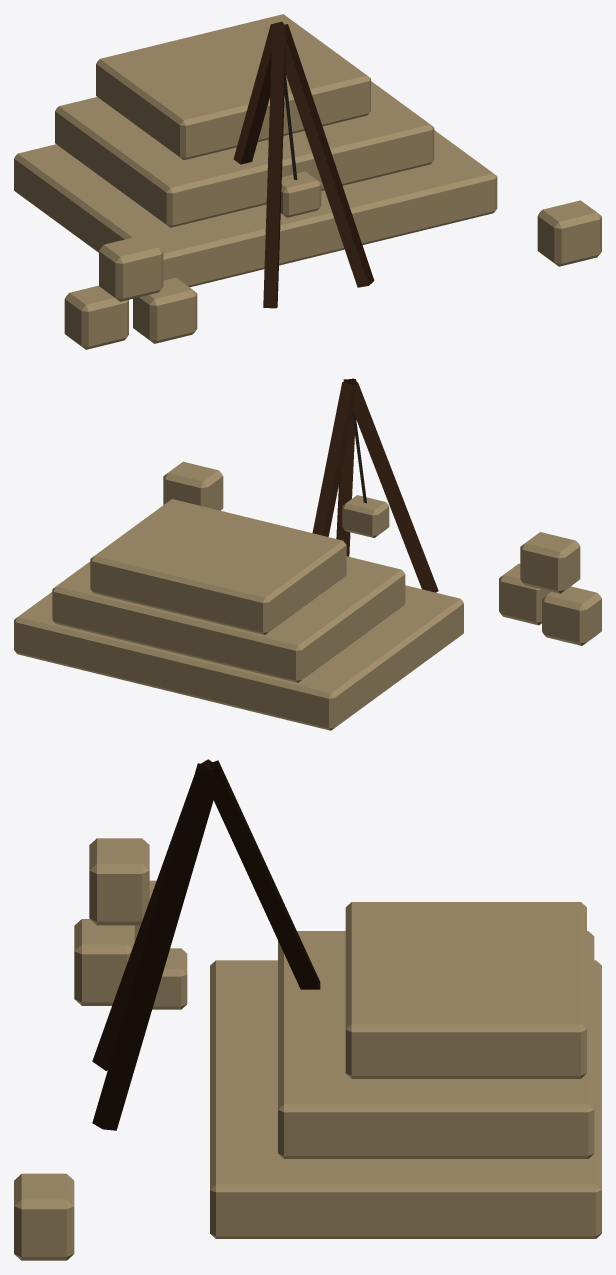
Rendered from quarry.obj.
The picture shows the model from 3 angles, top to bottom: view 1: azimuth 30°, elevation 25°; view 2: azimuth 150°, elevation 25°; view 3: azimuth 270°, elevation 25°; orthographic projection. The views are drawn at different scales.
Visible parts, largest first — view 1: core_stone, core_wood; view 2: core_stone, core_wood; view 3: core_stone, core_wood.
Boxes of the visible parts, x1,y1,x2,y2 form: core_stone: (14,14,601,349); core_wood: (233,21,374,308); core_stone: (14,461,601,730); core_wood: (312,378,438,592); core_stone: (14,838,601,1260); core_wood: (92,759,320,1130).
Size of the model in its own units: 0.51 by 0.2446 by 0.39.
